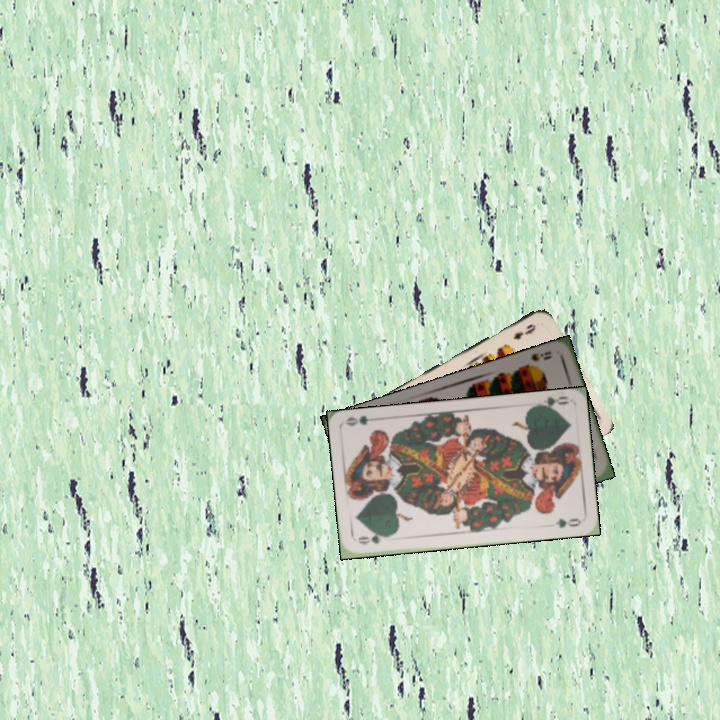E9: (509, 320, 538, 342)
GO: (531, 392, 571, 413), (354, 530, 394, 547)
S9: (519, 347, 554, 372)
